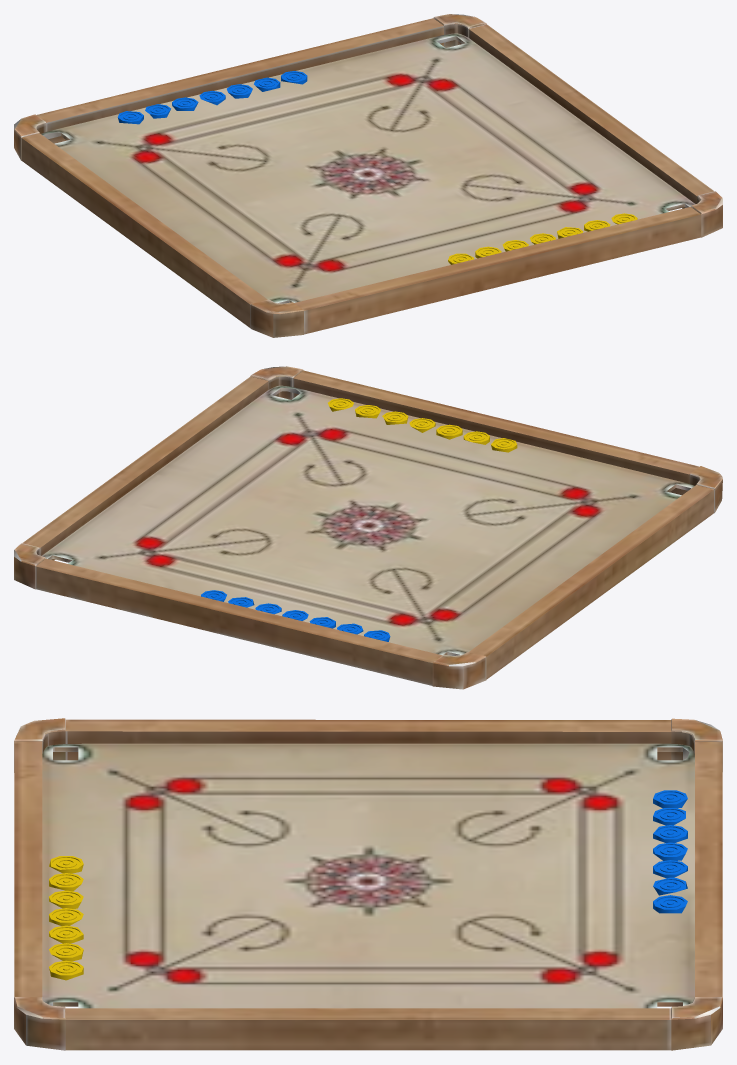
File: carrom-board.low.glb
3 views of the same model, one above another, from view 1: azimuth 30°, elevation 25°; view 2: azimuth 150°, elevation 25°; view 3: azimuth 270°, elevation 25° (orthographic). The views are drawn at different scales.
Parts seen in each view (by area): view 1: Object_2, Object_4, Object_3; view 2: Object_2, Object_3, Object_4; view 3: Object_2, Object_4, Object_3.
Part boxes in pixels (x1,y1,x2,y2): Object_2: (14, 14, 722, 337); Object_4: (117, 71, 307, 124); Object_3: (448, 213, 637, 264); Object_2: (14, 366, 722, 689); Object_3: (328, 398, 517, 452); Object_4: (201, 590, 390, 641); Object_2: (14, 718, 722, 1050); Object_4: (653, 790, 687, 913); Object_3: (49, 856, 83, 980).
Size of the model in its own units: 0.74 by 0.0381 by 0.7386.
Materials: 3 (1 with a texture image).
